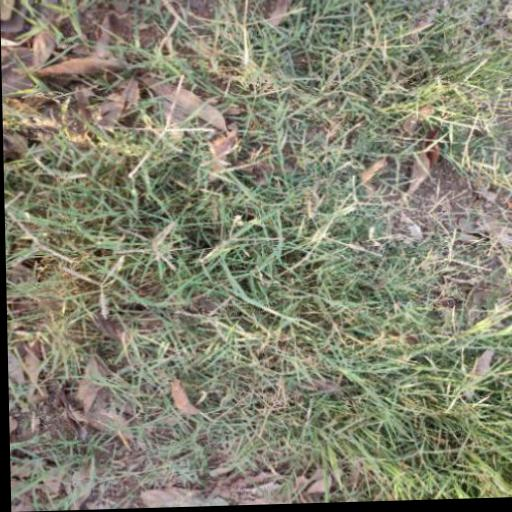weed: (29, 0, 512, 494)
